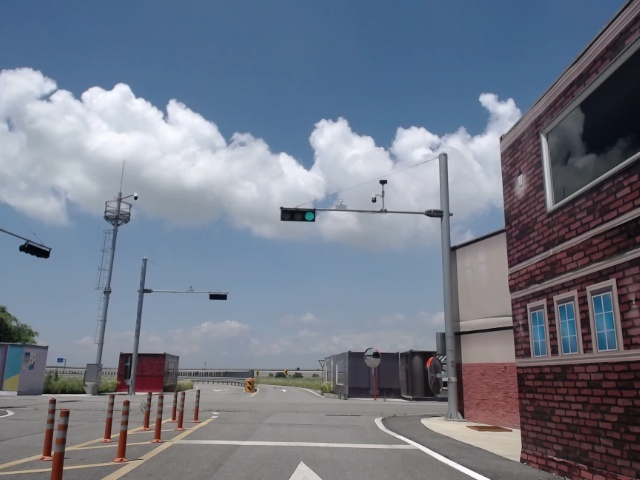green_3: (281, 209, 315, 220)
